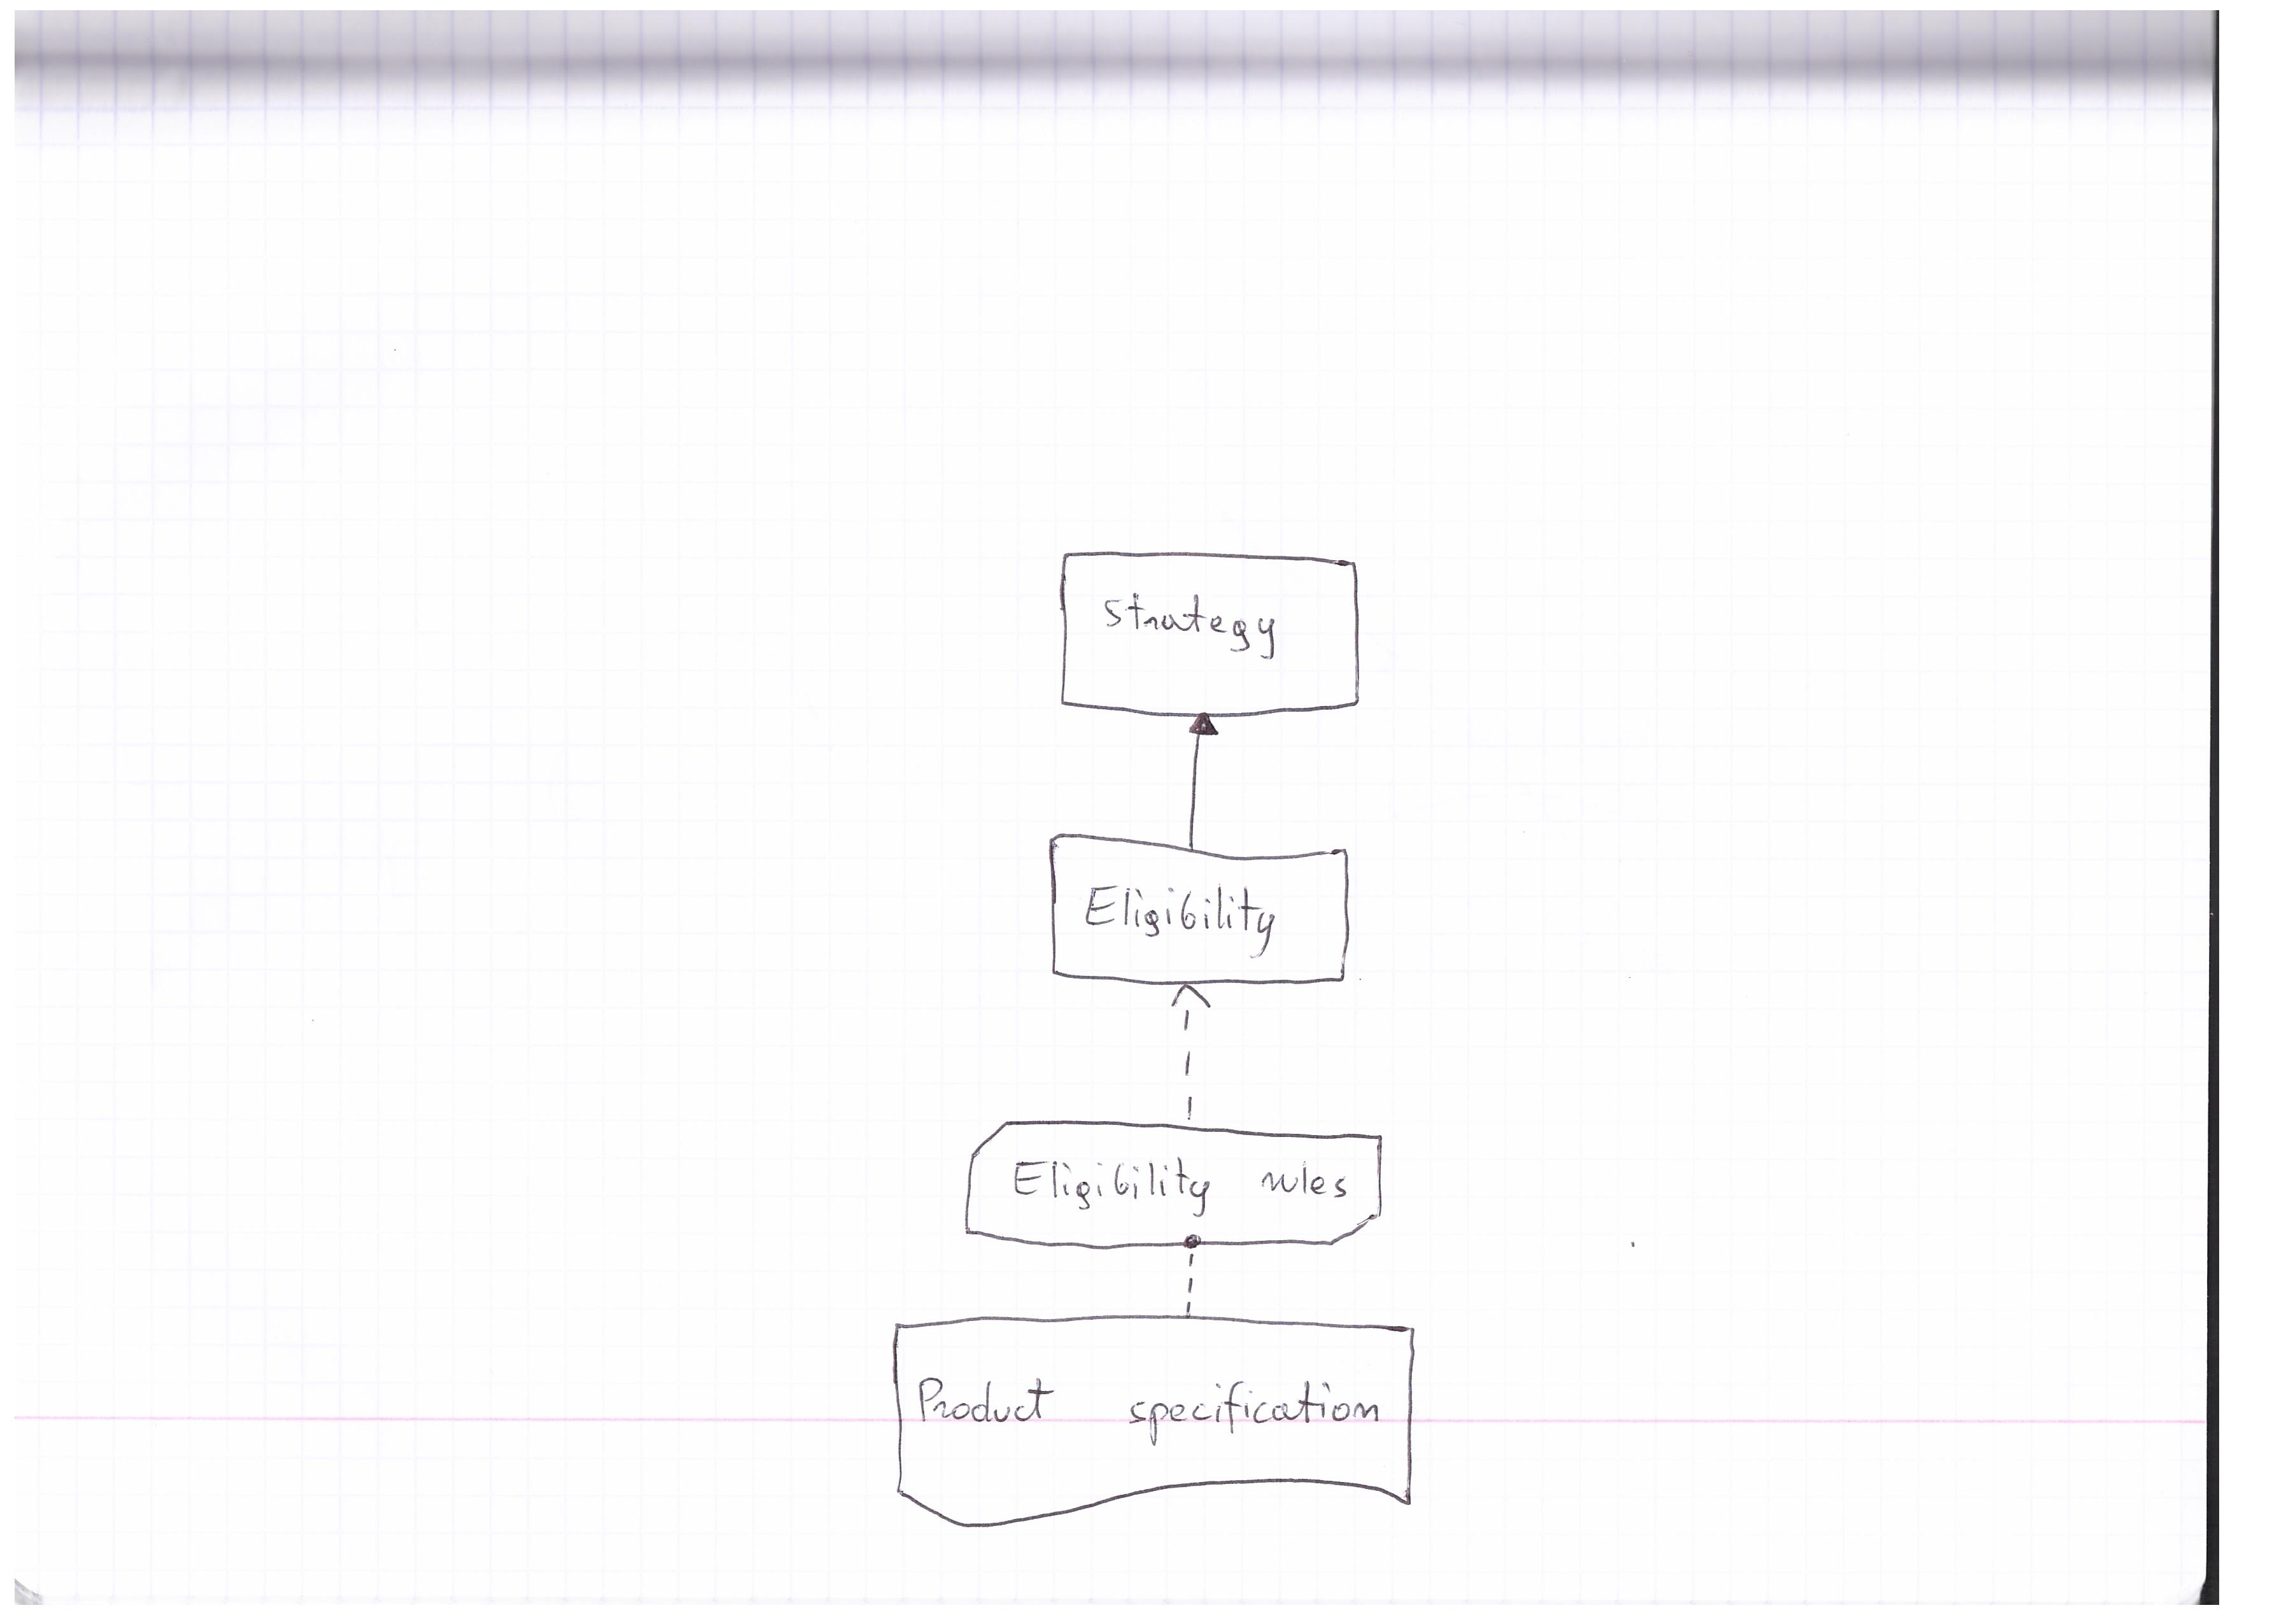arrow_authority_requirement: (1176, 1232, 1211, 1315)
arrow_information_requirement: (1169, 707, 1230, 844)
arrow_knowledge_requirement: (1167, 974, 1216, 1123)
node_decision: (1051, 547, 1365, 719), (1040, 833, 1364, 991)
node_knowledge_model: (952, 1109, 1409, 1253)
node_knowledge_source: (884, 1309, 1430, 1543)
text: (910, 1359, 1390, 1455), (1007, 1146, 1357, 1220), (1091, 575, 1297, 678), (1074, 868, 1290, 960)
